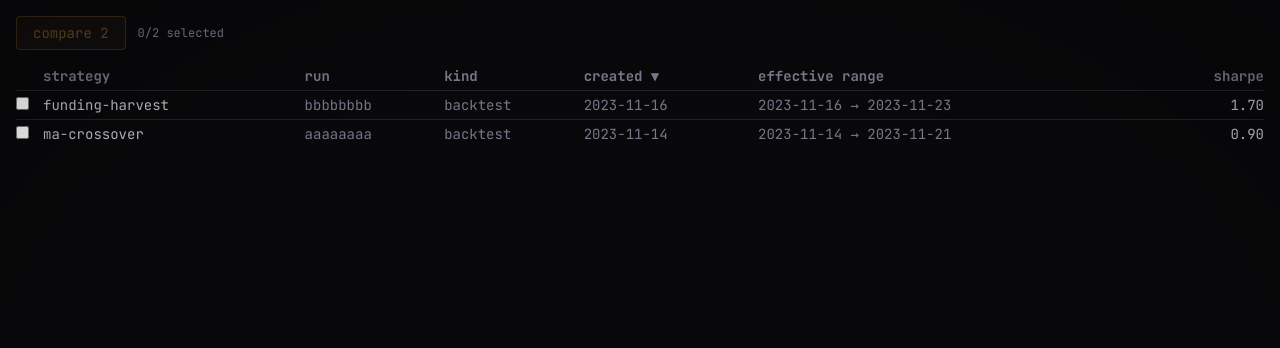
RunLibrary › compares two selected runs and shows the different-effective-range warning
Expected: the row with test id "run-aaaaaaaa1111" is shown, x1=16 y1=120 x2=1264 y2=148
Click the checkbox named "select aaaaaaaa1111" at [22, 132], box x1=16 y1=126 x2=29 y2=139
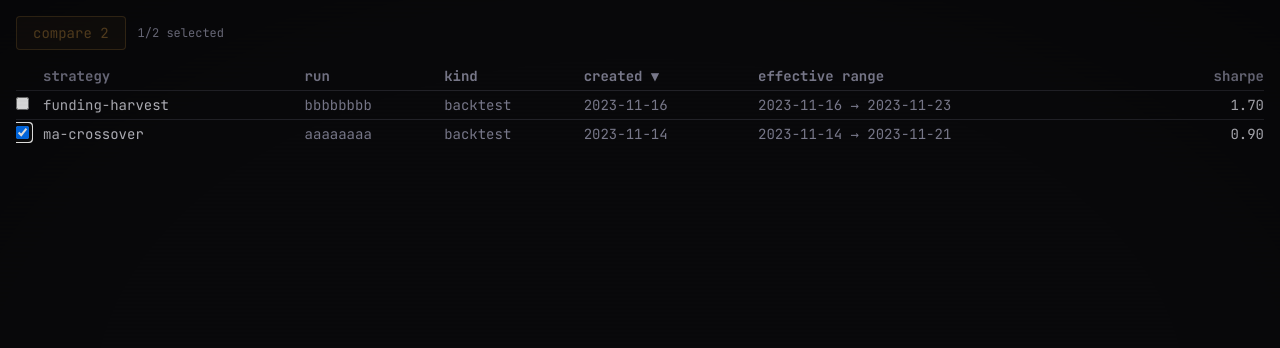
Click the checkbox named "select bbbbbbbb2222" at [22, 104], box x1=16 y1=97 x2=29 y2=110
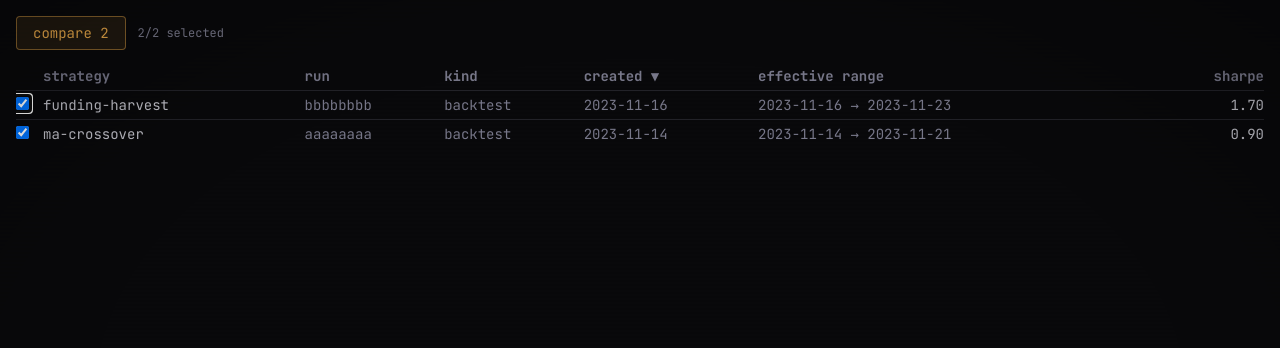
Click the button "compare 2" at [71, 33], box x1=16 y1=16 x2=126 y2=50
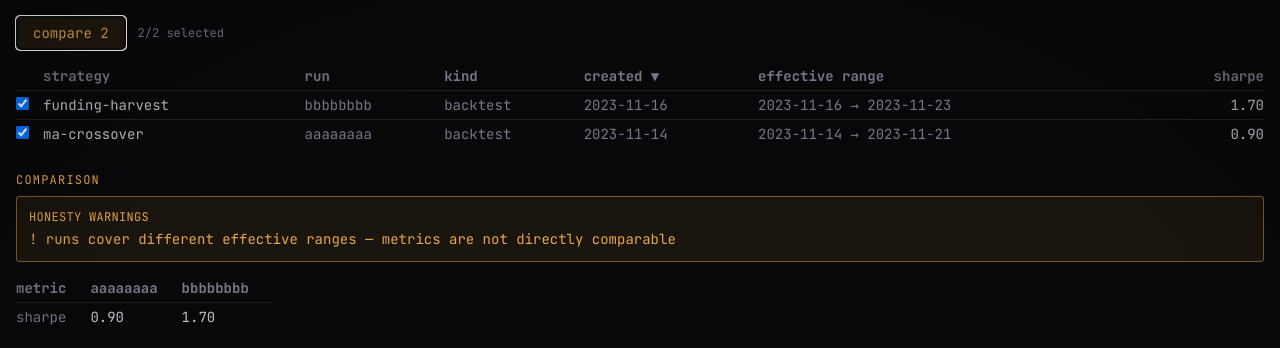
Expected: the element with test id "comparison" is shown, x1=16 y1=172 x2=1264 y2=331
Expected: the list item "different effective ranges" is shown, x1=46 y1=230 x2=676 y2=248
Expected: the text "sharpe" is shown, x1=16 y1=302 x2=90 y2=331
